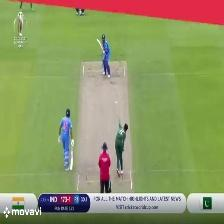ball: (113, 101, 119, 106)
batsman: (97, 33, 116, 79)
